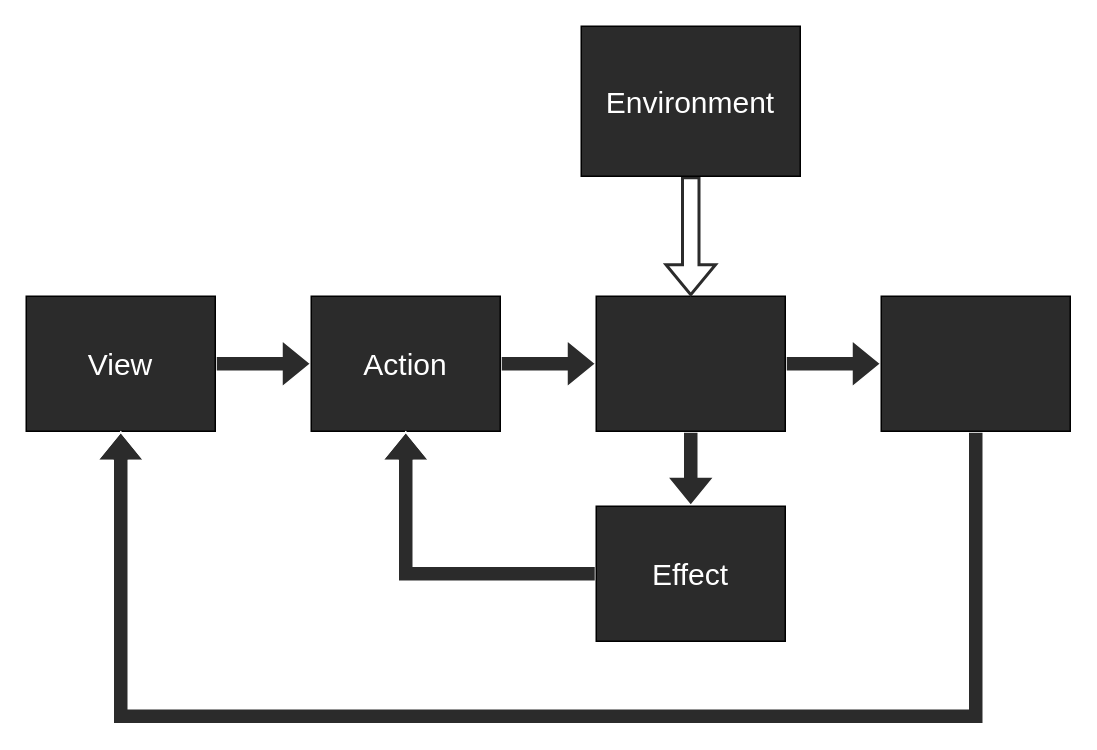
Some shapes in this 1097 by 750 pixel diagram are drawn without their labels. The centre of each missing label's shape, as x and y in pixels:
Reducer: (690,363)
State: (975,363)
